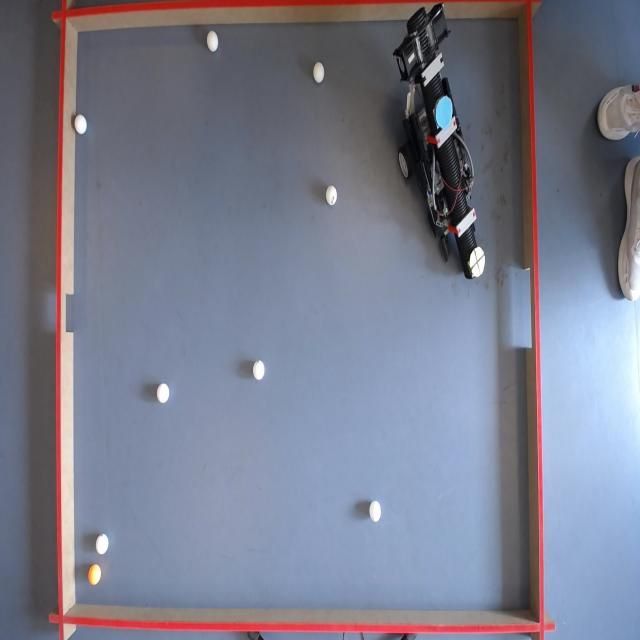orange: (88, 562, 102, 584)
robot: (397, 9, 487, 286)
robot-front: (470, 244, 487, 280)
robot-rear: (436, 95, 456, 132)
white: (96, 533, 110, 555), (74, 114, 88, 136), (158, 383, 172, 404), (252, 360, 266, 381), (313, 62, 326, 84), (368, 502, 381, 524), (207, 31, 220, 52), (325, 185, 337, 205)
